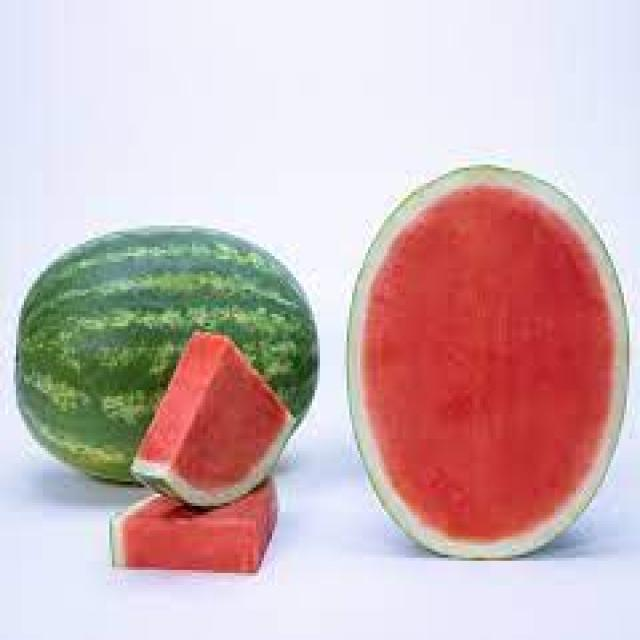watermelon: (344, 162, 629, 558), (14, 222, 318, 484), (128, 329, 293, 509), (107, 475, 277, 573)
